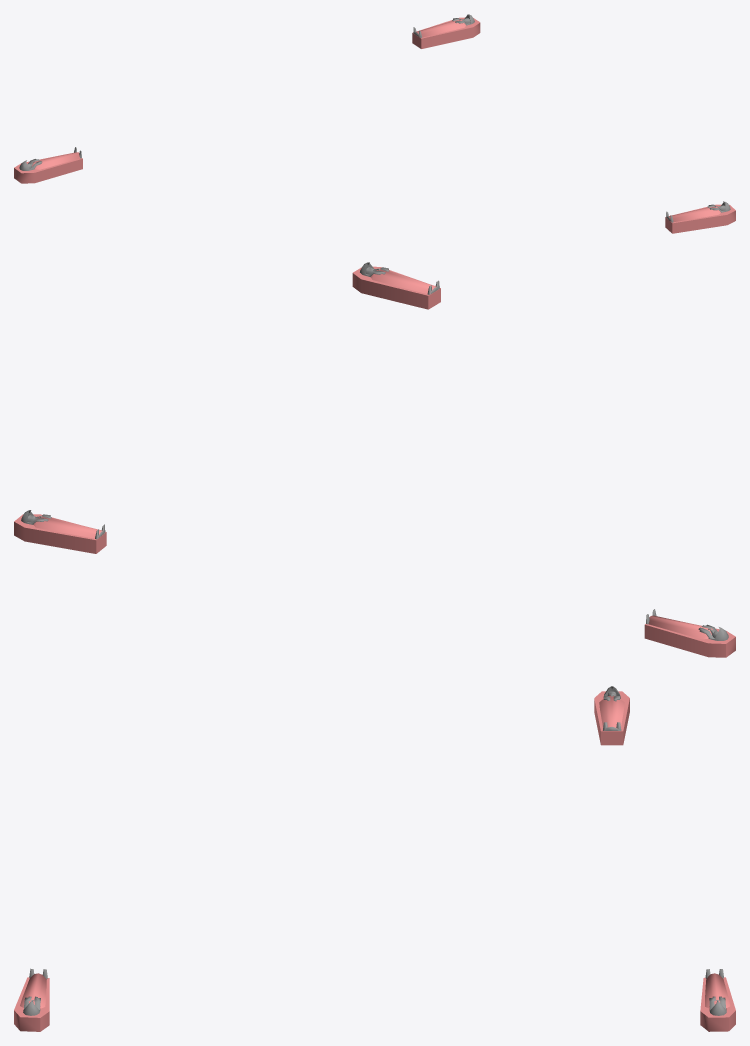
Rendered from SSQ_dungeon_S__SSQ_coffin_set02.gltf.
3 views of the same model, one above another, from view 1: azimuth 30°, elevation 25°; view 2: azimuth 150°, elevation 25°; view 3: azimuth 270°, elevation 25° (orthographic). The views are drawn at different scales.
Parts seen in each view (by area): view 1: SSQ_coffin_set02; view 2: SSQ_coffin_set02; view 3: SSQ_coffin_set02.
Part boxes in pixels (x1,y1,x2,y2): SSQ_coffin_set02: (14, 14, 735, 233); SSQ_coffin_set02: (14, 262, 735, 657); SSQ_coffin_set02: (14, 686, 735, 1031).
Size of the model in its own units: 5.33 by 0.1891 by 4.98.
